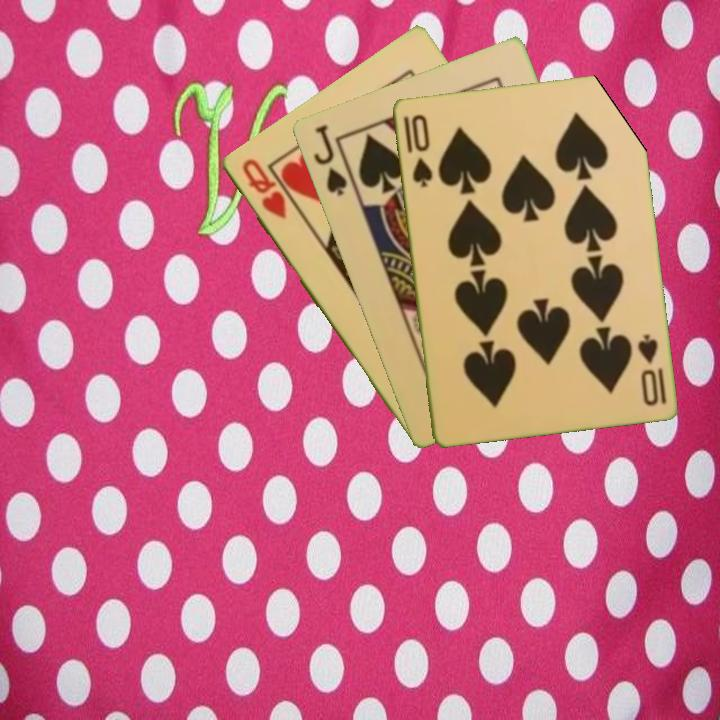10s: (634, 330, 669, 409), (407, 110, 435, 190)
Js: (309, 120, 350, 199)
Qh: (238, 154, 289, 222)
